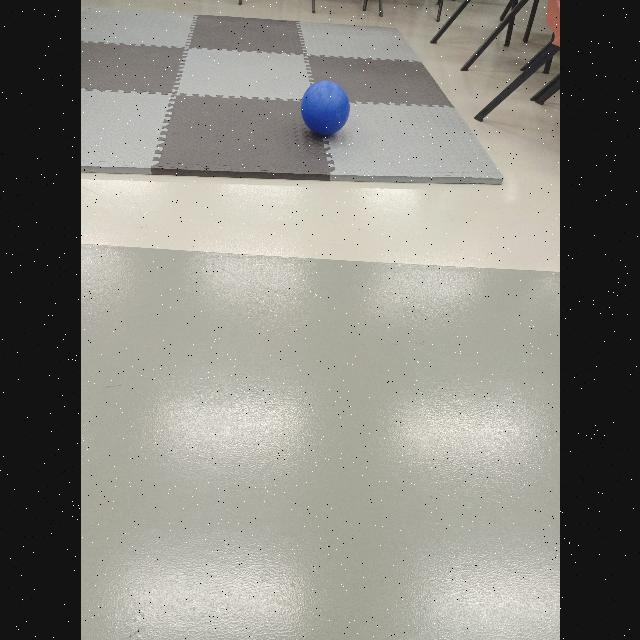B: (297, 78, 353, 140)
